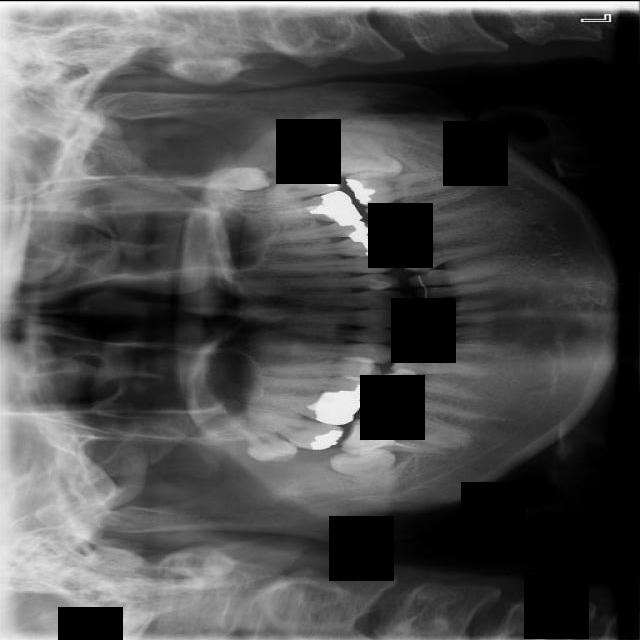3M ESPE Implant: (209, 407, 301, 474)
52: (357, 378, 415, 434), (282, 154, 346, 203), (339, 414, 400, 461), (343, 163, 402, 211), (365, 196, 425, 241), (315, 182, 363, 233), (313, 388, 363, 427), (290, 420, 346, 451), (335, 374, 376, 401), (397, 252, 439, 272), (343, 234, 381, 256), (386, 234, 426, 254), (332, 218, 370, 236)
73: (237, 392, 325, 420), (251, 193, 337, 221), (389, 426, 462, 456), (620, 12, 624, 20)
BioHorizons Implant: (222, 158, 344, 217)
BioLife Implant: (170, 161, 274, 191)
Biomet 3i Implant: (325, 128, 405, 181)
Blue Sky Bio Implant: (345, 168, 466, 206)
Caries: (231, 404, 347, 455)
Implant: (341, 416, 462, 461)
Keystone Dental Implant: (326, 424, 413, 505)
